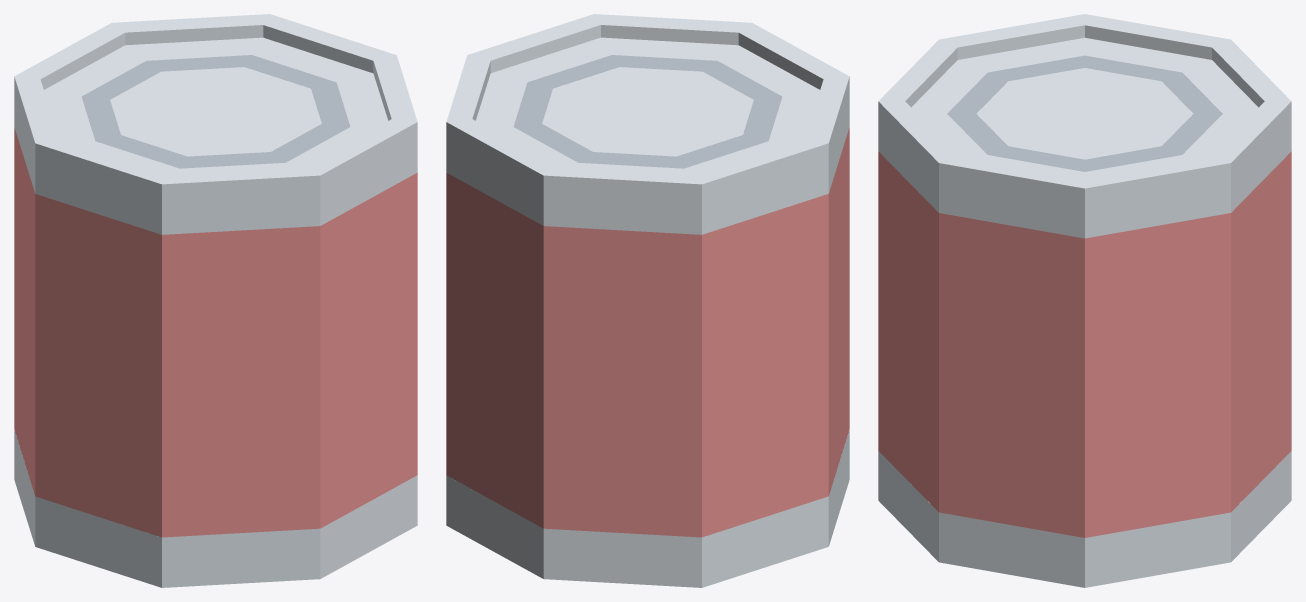
The model's file is can.glb.
3 views of the same model, side by side, from view 1: azimuth 30°, elevation 25°; view 2: azimuth 150°, elevation 25°; view 3: azimuth 270°, elevation 25° (orthographic).
Parts seen in each view (by area): view 1: can; view 2: can; view 3: can.
Boxes of the visible parts, box(x1,y1,x2,y2) form: can: box(14, 14, 417, 587); can: box(446, 14, 849, 587); can: box(878, 14, 1291, 587).
Bounding box in the file's own units: 0.3 × 0.32 × 0.3.
